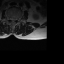CCS_normal: (12, 15, 14, 24)
LFS_normal: (16, 16, 18, 22)
LLS_normal: (14, 16, 16, 23)
RFS_normal: (8, 15, 10, 21)
RLS_normal: (10, 16, 12, 22)
